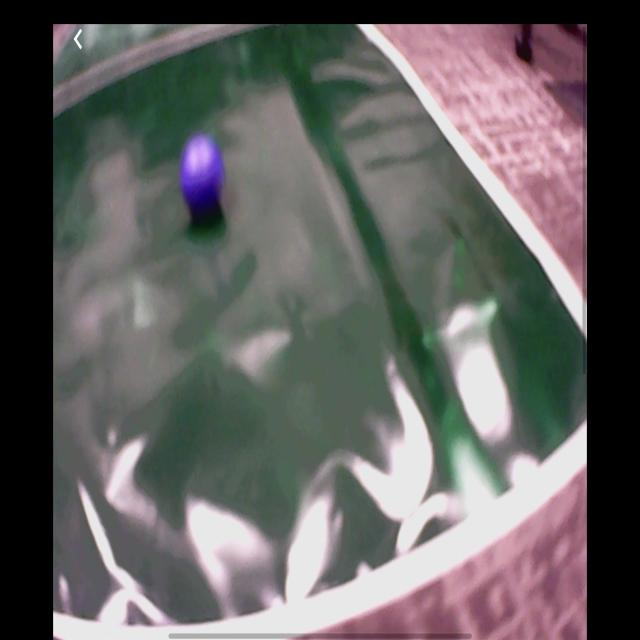ball: (179, 133, 226, 216)
